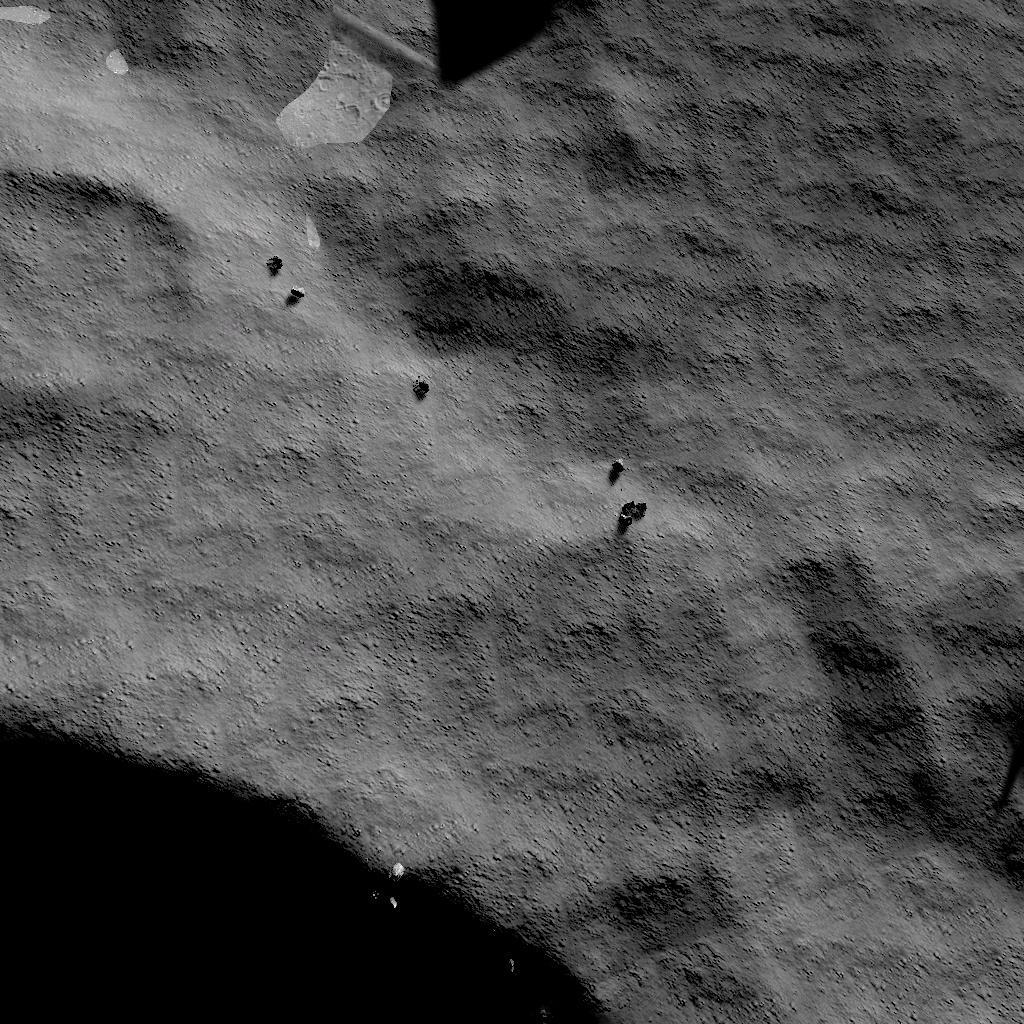Crater: (0, 688, 621, 1024), (0, 158, 200, 424), (392, 0, 610, 97)
Plan surface: (656, 465, 982, 1024), (637, 2, 1024, 446), (2, 445, 568, 633)
